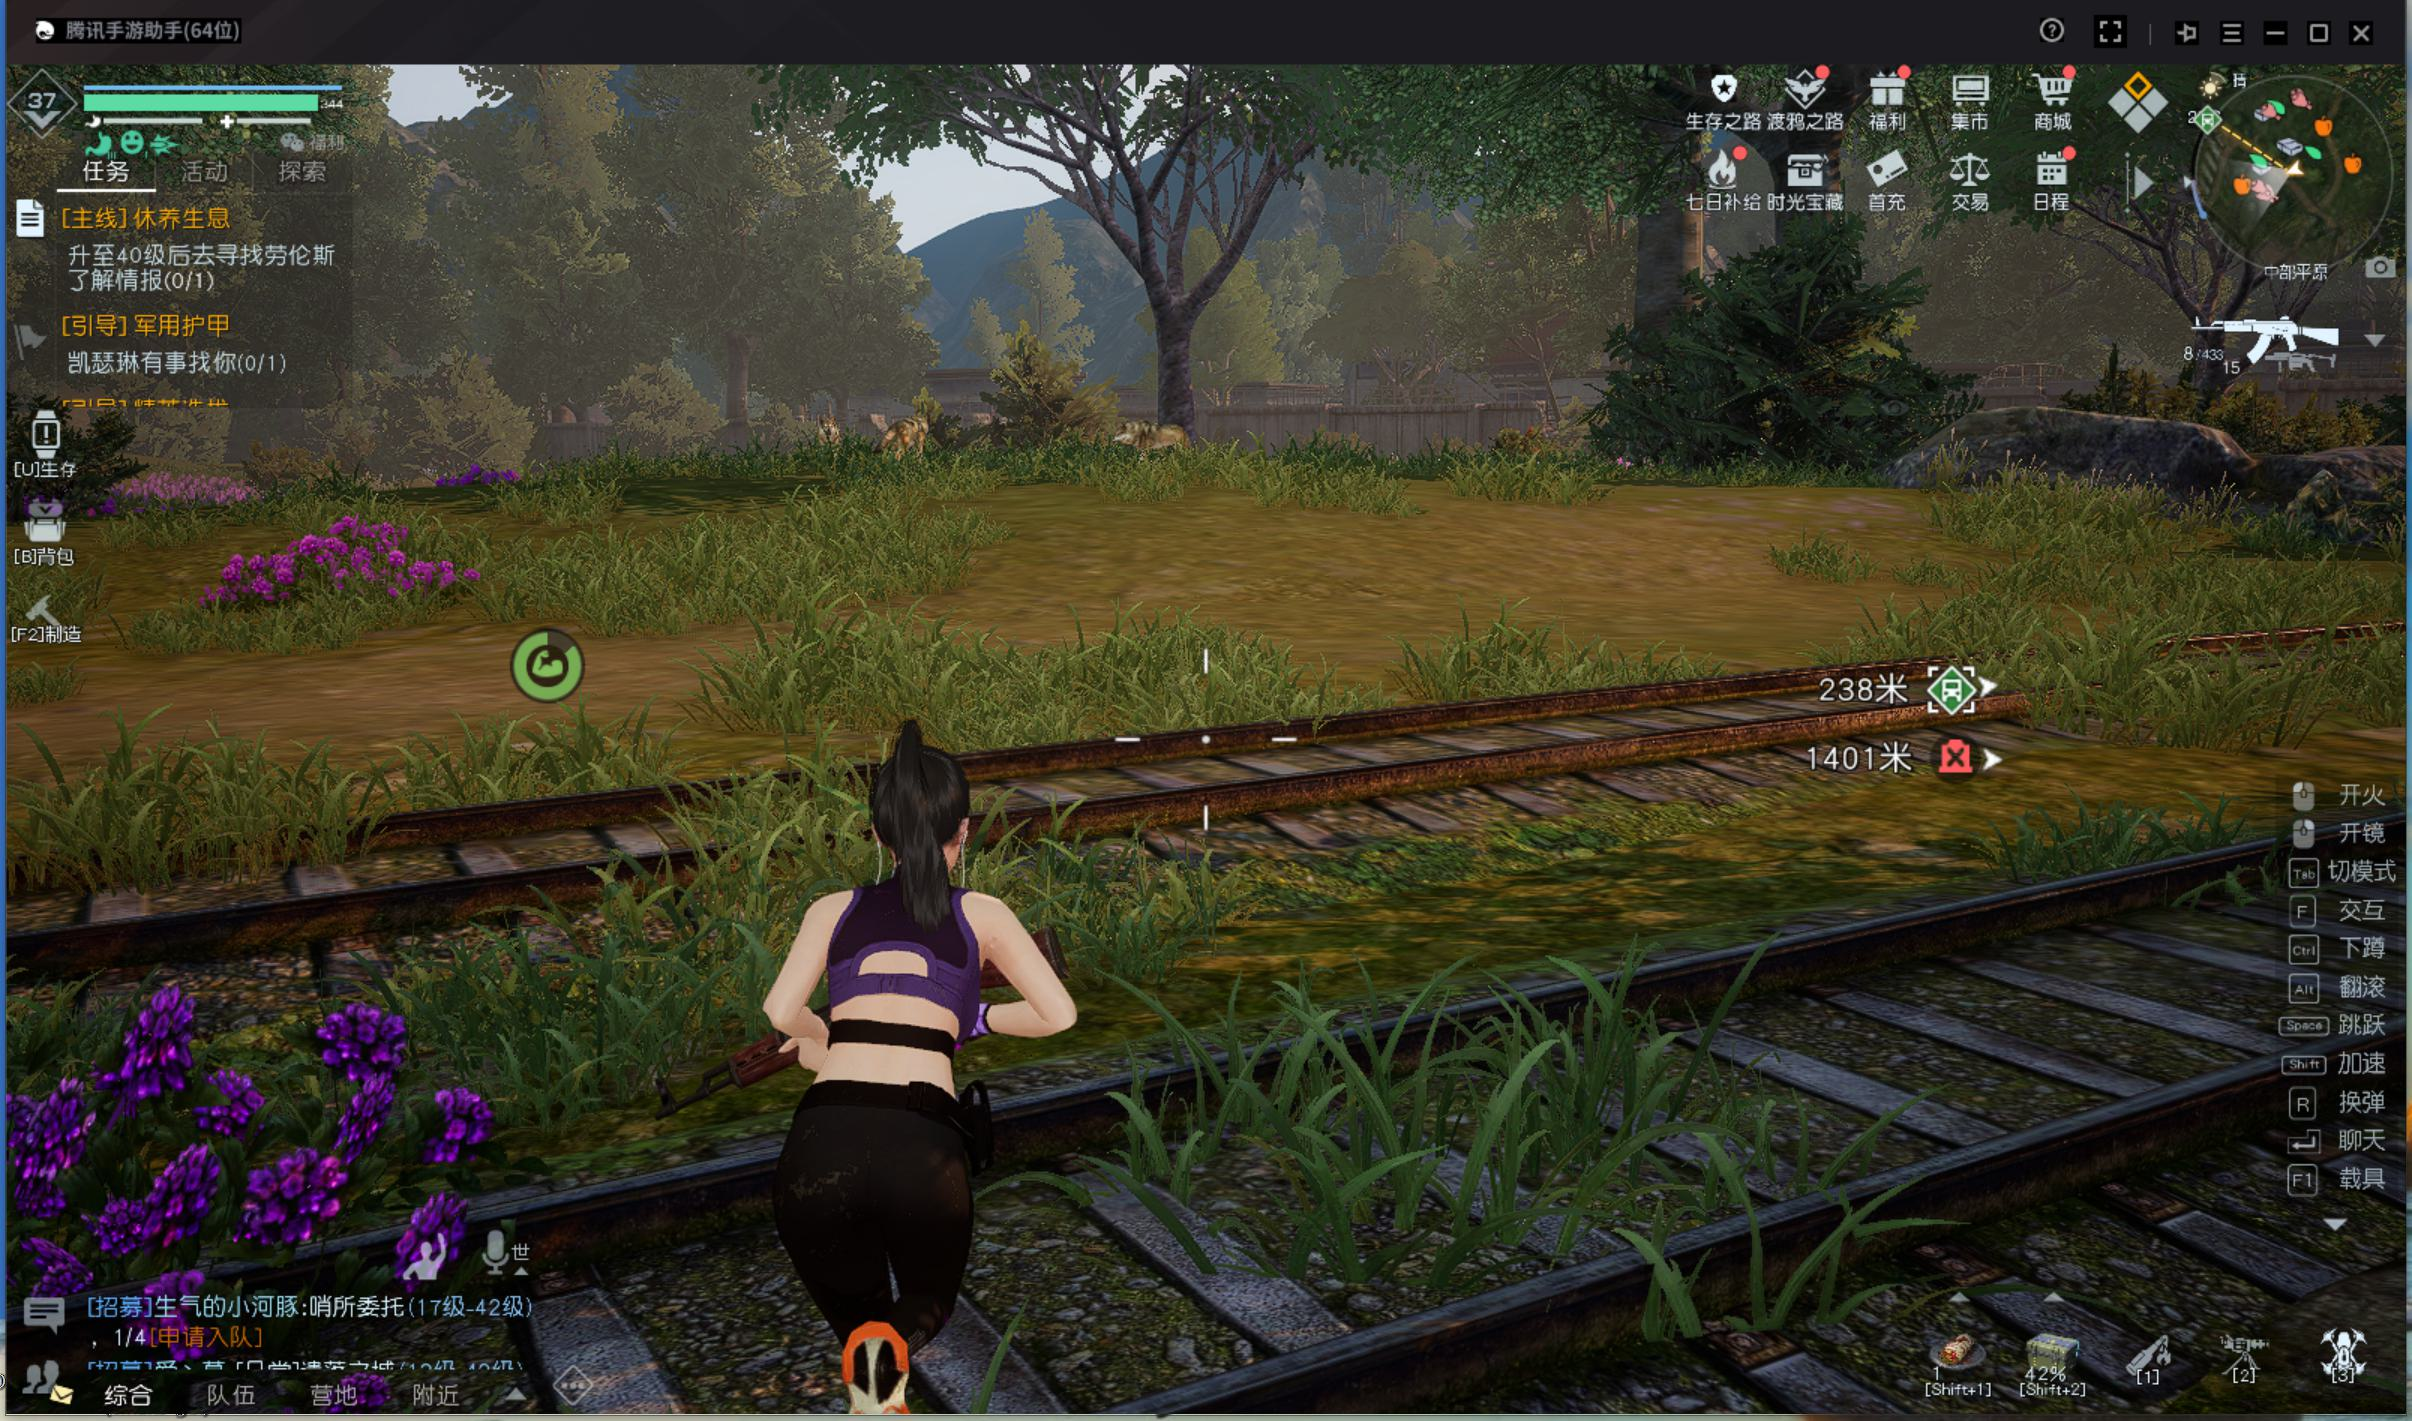tree: (1615, 217, 1713, 477), (1142, 303, 1203, 464), (721, 343, 758, 448)
